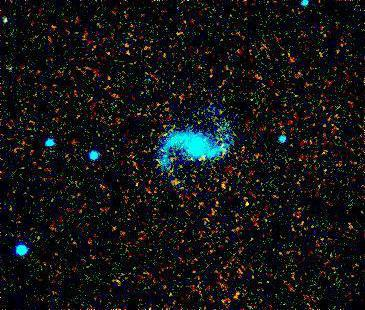star: (162, 169, 192, 199)
